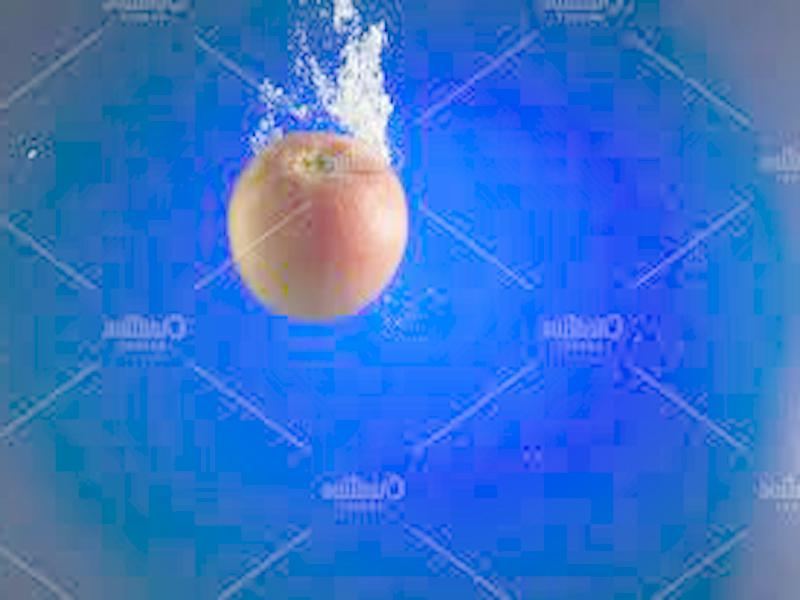Tomato: (226, 131, 406, 315)
